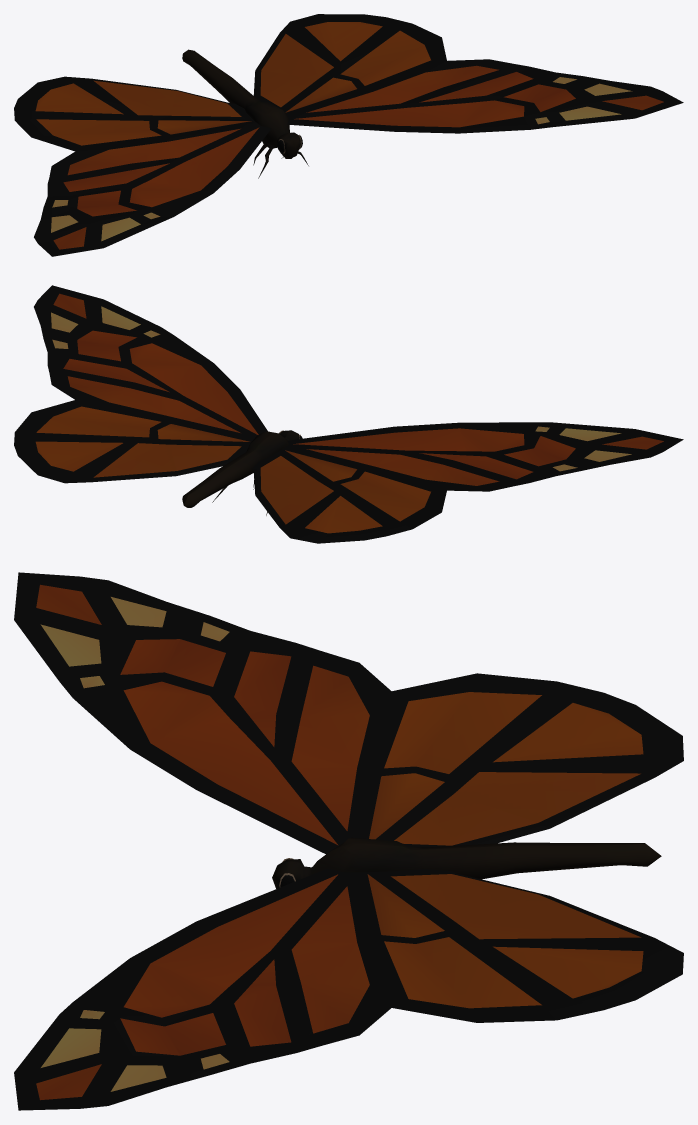
The model's file is animals-flyinginsects-monarchbutterfly_v1.fbx.
3 renders of one model, top to bottom at view 1: azimuth 30°, elevation 25°; view 2: azimuth 150°, elevation 25°; view 3: azimuth 270°, elevation 25°, orthographic. The views are drawn at different scales.
Visible parts, largest first — view 1: MonarchButterfly.001; view 2: MonarchButterfly.001; view 3: MonarchButterfly.001.
Boxes of the visible parts, <box> form: MonarchButterfly.001: <box>14,14,683,256</box>; MonarchButterfly.001: <box>14,285,683,543</box>; MonarchButterfly.001: <box>14,572,683,1110</box>.
Size of the model in its own units: 0.9506 by 0.0831 by 0.5002.
